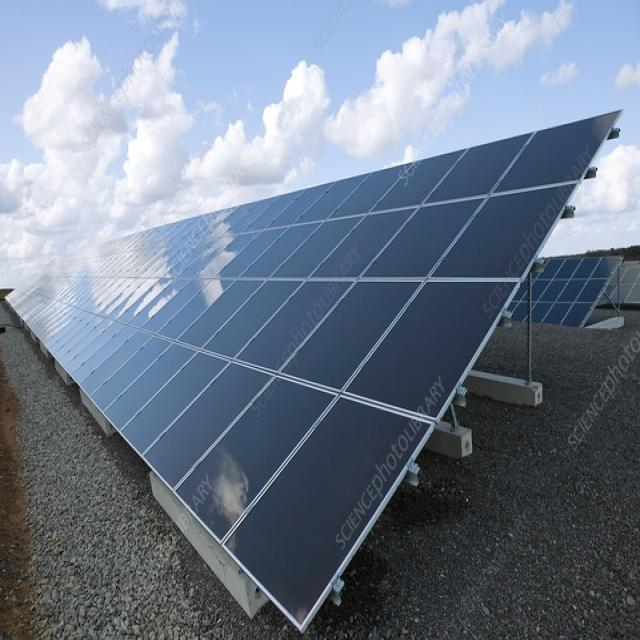clean-solar-panel: (9, 113, 619, 630)
